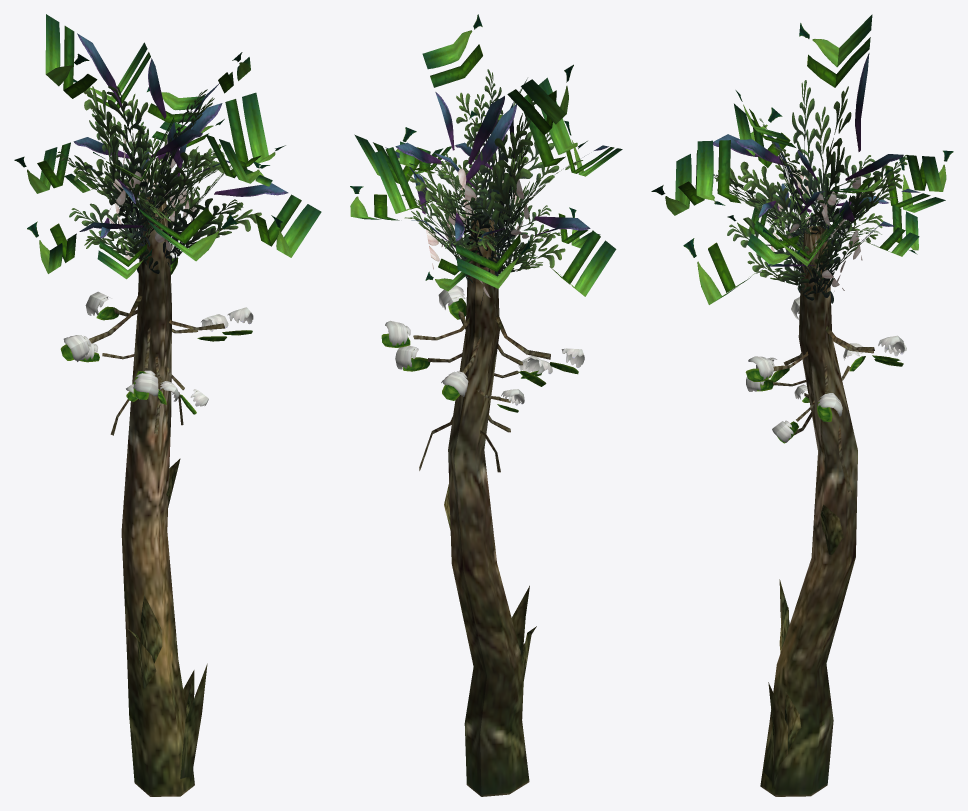
The model's file is S_Tree_Green054.FBX.
The picture shows the model from 3 angles, left to right: view 1: azimuth 30°, elevation 25°; view 2: azimuth 150°, elevation 25°; view 3: azimuth 270°, elevation 25°; orthographic projection. The views are drawn at different scales.
Parts seen in each view (by area): view 1: S_Tree_Green054; view 2: S_Tree_Green054; view 3: S_Tree_Green054.
Part boxes in pixels (x1,y1,x2,y2): S_Tree_Green054: [14, 14, 321, 796]; S_Tree_Green054: [350, 14, 622, 796]; S_Tree_Green054: [651, 14, 953, 796].
Size of the model in its own units: 361 by 405 by 1088.
